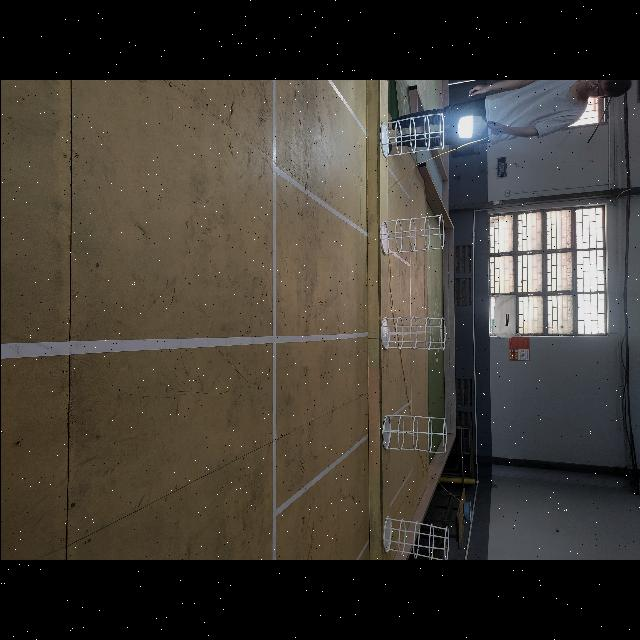S: (378, 112, 444, 158), (382, 516, 448, 560), (379, 214, 445, 256), (382, 414, 446, 454), (380, 316, 446, 350)
